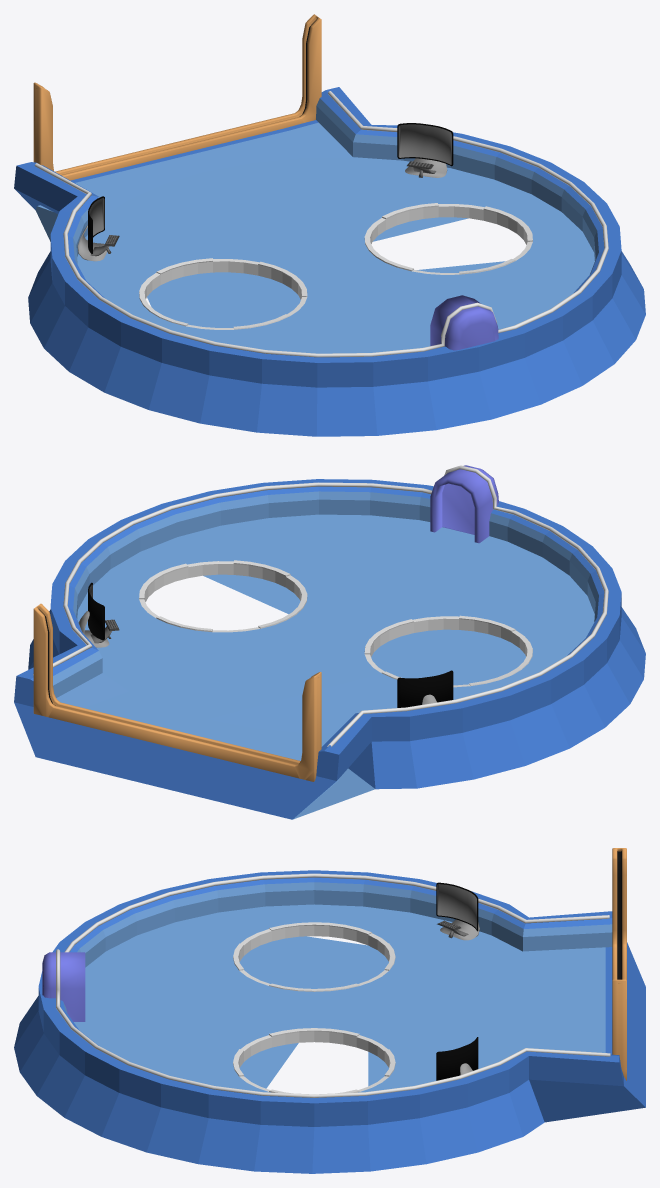
The model's file is Platform 0 - Base.fbx.
The picture shows the model from 3 angles, top to bottom: view 1: azimuth 30°, elevation 25°; view 2: azimuth 150°, elevation 25°; view 3: azimuth 270°, elevation 25°; orthographic projection. The views are drawn at different scales.
Visible parts, largest first — view 1: BasePlatform-1, DoorEdge, Circle.003, PC, Entrance; view 2: BasePlatform-1, DoorEdge, Circle.003, Entrance, PC; view 3: BasePlatform-1, Circle.003, PC, DoorEdge, Entrance.
Boxes of the visible parts, x1=… form: BasePlatform-1: x1=14, y1=87, x2=645, y2=436; DoorEdge: x1=33, y1=14, x2=321, y2=180; Circle.003: x1=34, y1=91, x2=608, y2=357; PC: x1=77, y1=123, x2=453, y2=261; Entrance: x1=430, y1=295, x2=498, y2=350; BasePlatform-1: x1=14, y1=479, x2=645, y2=819; DoorEdge: x1=33, y1=603, x2=321, y2=781; Circle.003: x1=33, y1=465, x2=608, y2=746; Entrance: x1=430, y1=465, x2=498, y2=543; PC: x1=78, y1=582, x2=453, y2=707; BasePlatform-1: x1=14, y1=870, x2=645, y2=1173; Circle.003: x1=56, y1=873, x2=610, y2=1097; PC: x1=436, y1=882, x2=479, y2=1080; DoorEdge: x1=612, y1=848, x2=626, y2=1080; Entrance: x1=42, y1=952, x2=85, y2=1021.
Bounding box in the file's own units: 2781 × 689 × 2945.
